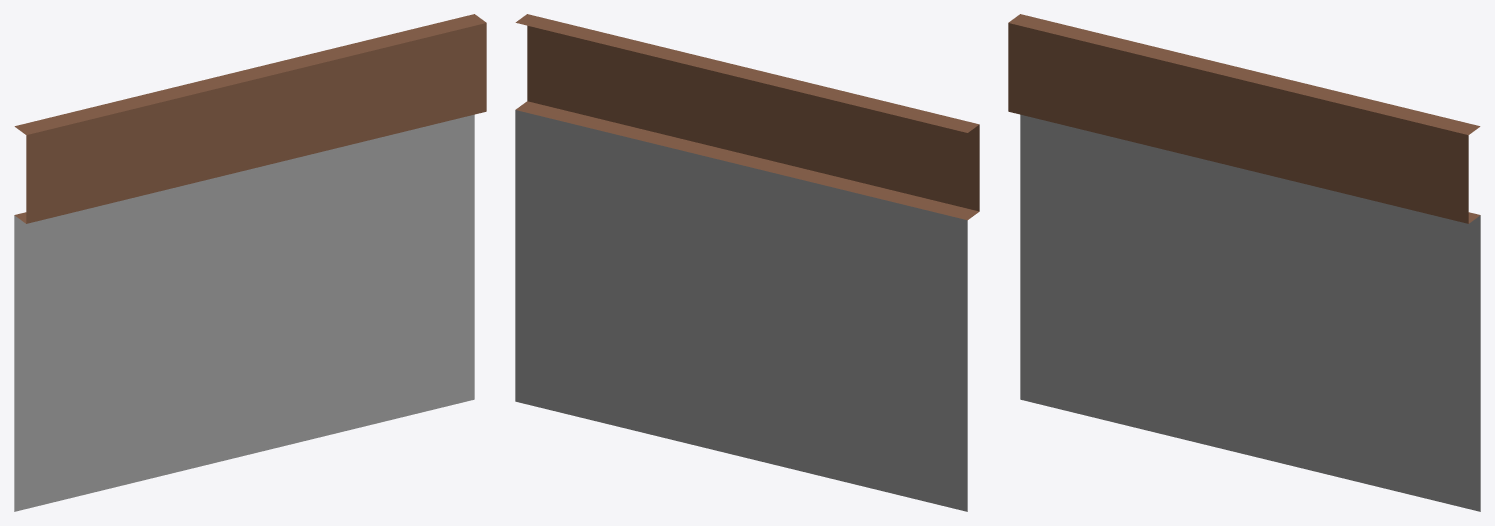
Rendered from S3_RoofEdge.fbx.
3 views of the same model, side by side, from view 1: azimuth 30°, elevation 25°; view 2: azimuth 150°, elevation 25°; view 3: azimuth 330°, elevation 25° (orthographic).
Parts seen in each view (by area): view 1: S3_RoofEdge; view 2: S3_RoofEdge; view 3: S3_RoofEdge.
Boxes of the visible parts, bbox=[...] form: S3_RoofEdge: bbox=[14, 14, 486, 511]; S3_RoofEdge: bbox=[515, 14, 979, 511]; S3_RoofEdge: bbox=[1008, 14, 1480, 511].
Bounding box in the file's own units: 30 × 24.01 × 1.37.
